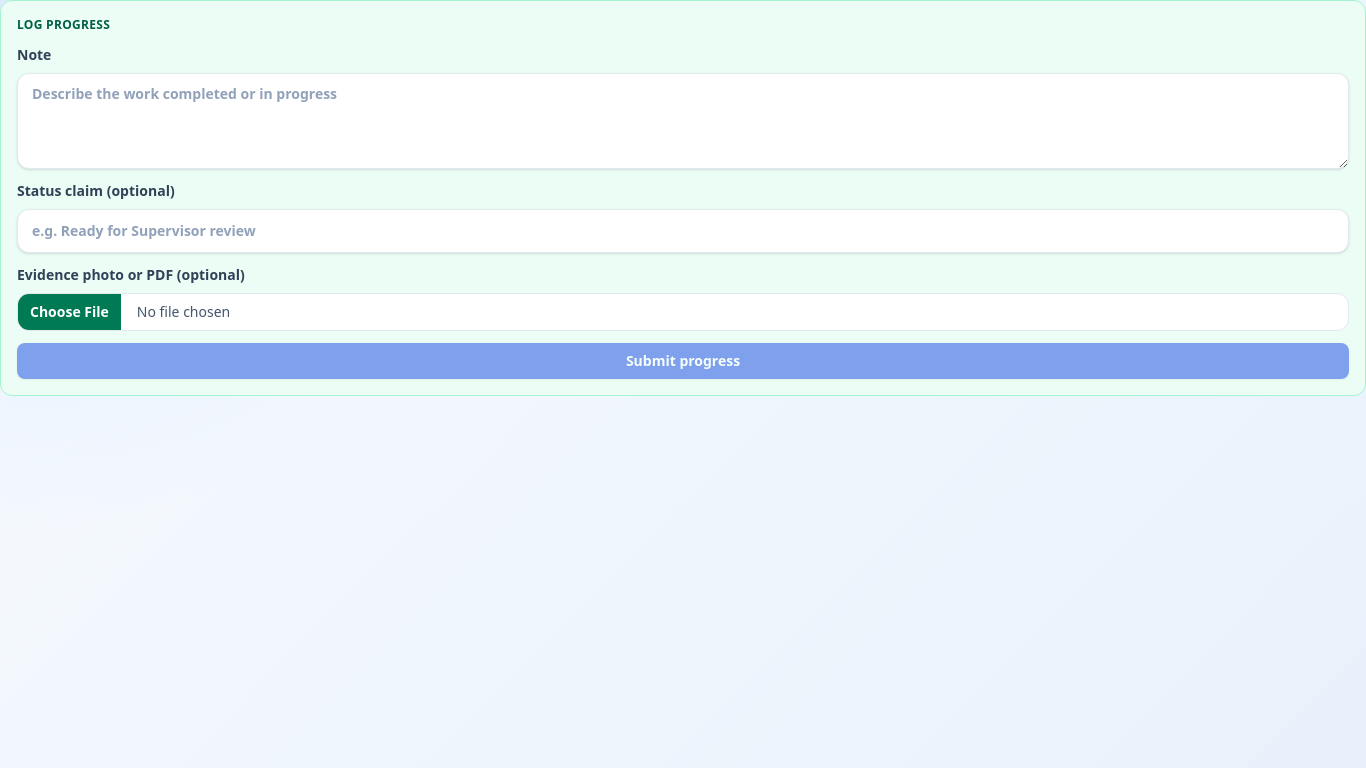
it: TaskProgressForm › shows a backend error inline without clearing the form
Step 1. Type "Crew mobilised." into the text box labelled "Note" → (683, 121), box [17,73,1349,169]
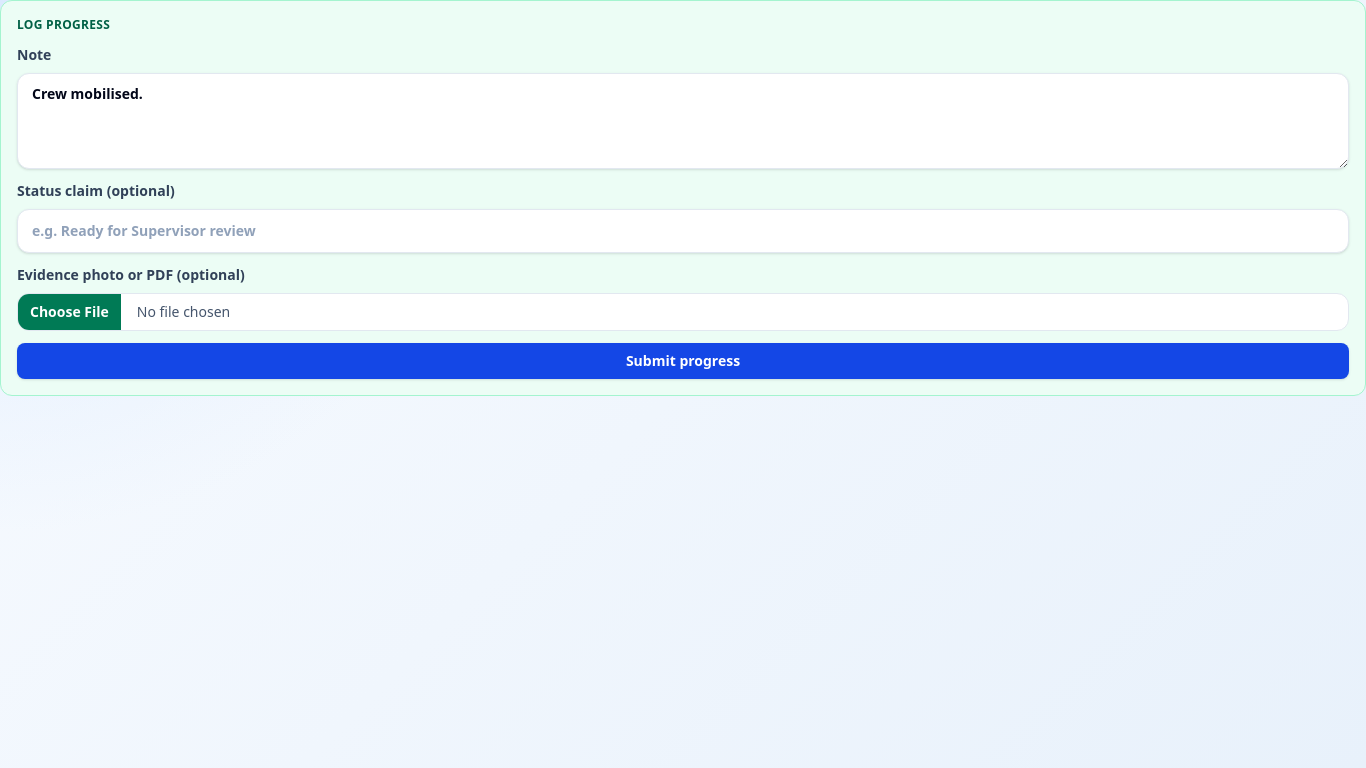
Step 2. Click the button "Submit progress" → (683, 361), box [17,343,1349,379]
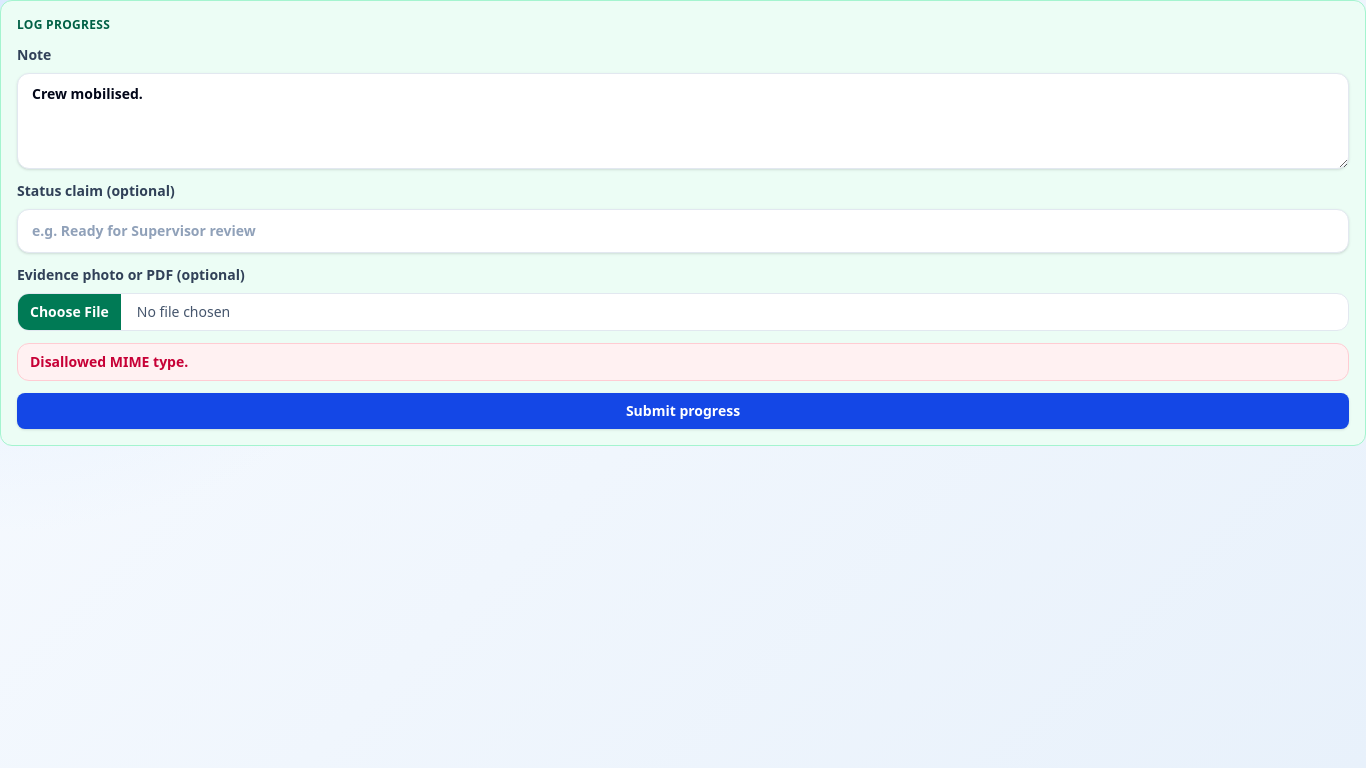
Check: the text "Disallowed MIME type." is shown, box [17,343,1349,381]
